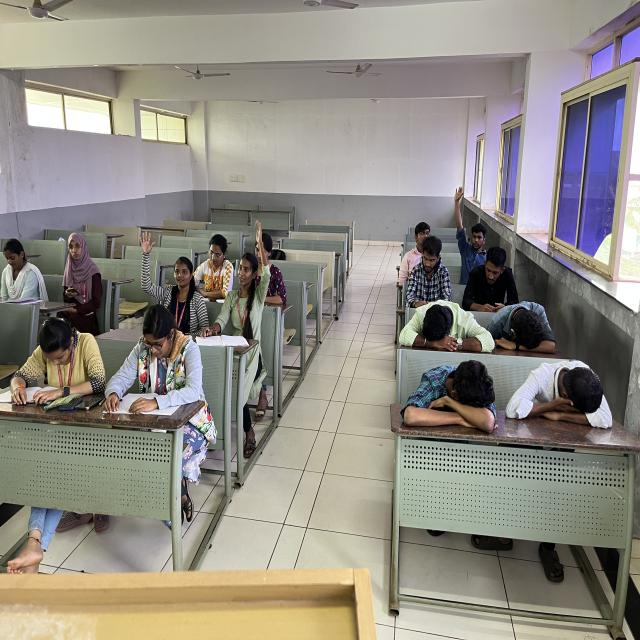Hand Rising: (135, 225, 204, 325), (226, 215, 270, 333), (442, 181, 489, 267)
Reading: (102, 303, 219, 416), (13, 308, 104, 416), (0, 224, 51, 313)
Sleeping: (497, 342, 615, 440), (393, 355, 507, 448), (390, 286, 494, 362), (478, 286, 558, 364)
Using Phone: (52, 226, 112, 316)
